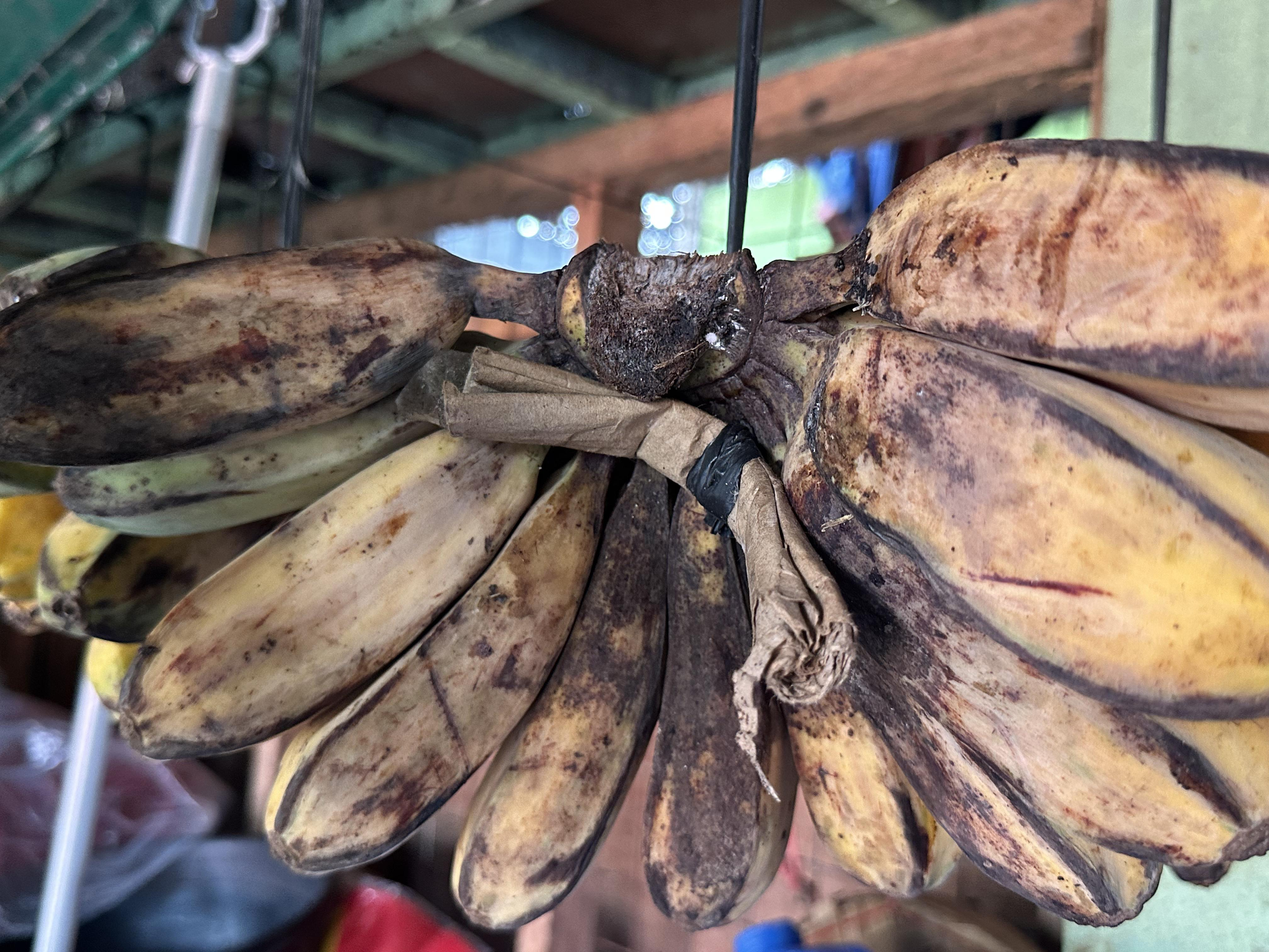ripe: (0, 137, 1269, 935)
